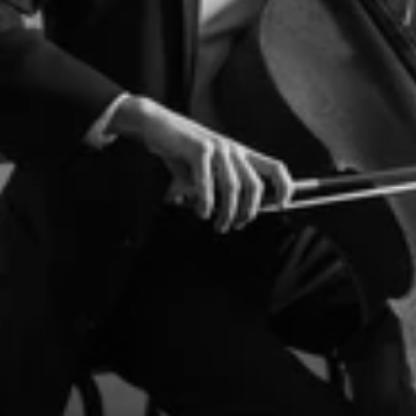good: (166, 106, 304, 238)
